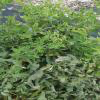Tomato leaf yellow virus: (82, 39, 92, 45), (27, 52, 39, 57), (20, 45, 32, 50), (79, 16, 87, 22), (81, 57, 93, 61), (73, 34, 80, 40), (78, 8, 88, 12), (32, 55, 42, 59), (35, 46, 45, 50), (48, 42, 57, 46), (26, 25, 33, 30), (32, 23, 39, 28), (48, 46, 59, 49), (83, 53, 91, 57), (14, 48, 18, 56), (31, 6, 37, 11), (31, 15, 38, 19), (57, 41, 64, 45), (53, 51, 62, 54), (80, 47, 89, 50), (67, 40, 76, 43), (91, 25, 96, 30), (47, 30, 52, 35), (60, 15, 68, 18), (27, 13, 33, 17), (71, 30, 79, 33), (88, 18, 94, 22), (22, 5, 26, 11), (59, 28, 65, 32), (59, 45, 67, 48), (47, 53, 54, 56), (23, 35, 30, 38), (35, 27, 42, 30), (51, 8, 56, 12), (40, 39, 45, 43), (36, 36, 40, 41), (44, 35, 50, 38), (31, 20, 39, 22), (53, 32, 58, 35), (63, 22, 68, 25), (89, 8, 94, 11), (40, 33, 47, 35)
